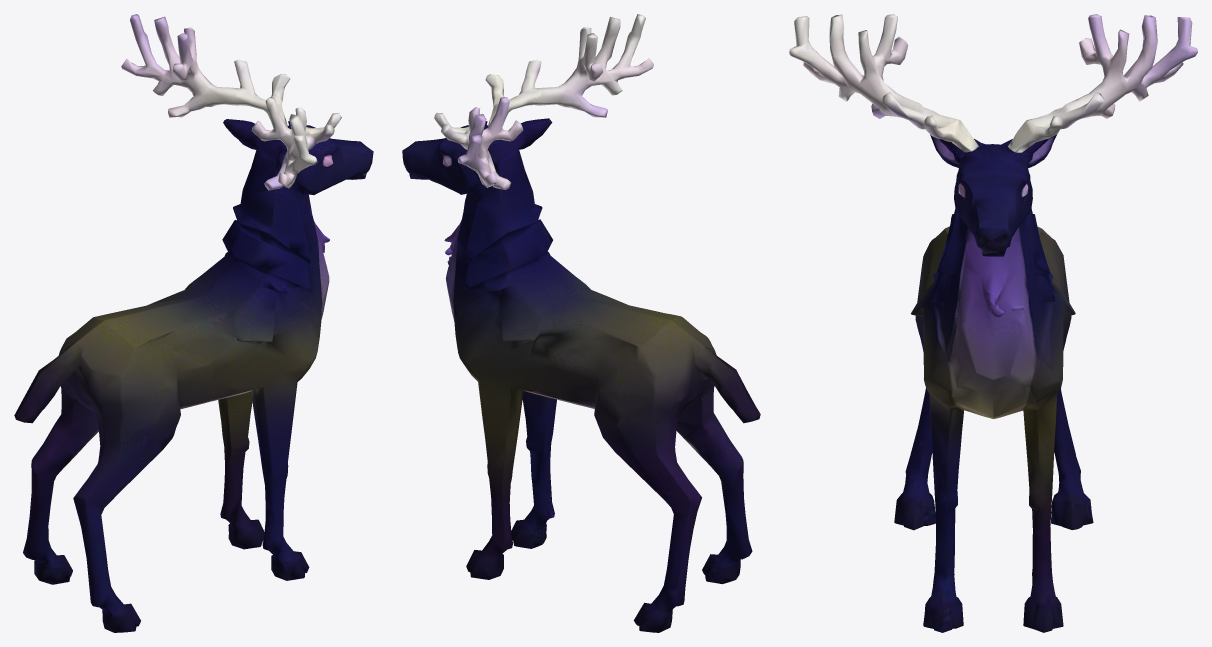
The model's file is gloam_hart.glb.
3 views of the same model, side by side, from view 1: azimuth 30°, elevation 25°; view 2: azimuth 150°, elevation 25°; view 3: azimuth 270°, elevation 25° (orthographic). The views are drawn at different scales.
Visible parts, largest first — view 1: tripo_node_dde08eef-7130-4566-bcc6-766e4d0324c3; view 2: tripo_node_dde08eef-7130-4566-bcc6-766e4d0324c3; view 3: tripo_node_dde08eef-7130-4566-bcc6-766e4d0324c3.
Boxes of the visible parts, x1,y1,x2,y2 form: tripo_node_dde08eef-7130-4566-bcc6-766e4d0324c3: (14, 14, 373, 632); tripo_node_dde08eef-7130-4566-bcc6-766e4d0324c3: (402, 14, 760, 632); tripo_node_dde08eef-7130-4566-bcc6-766e4d0324c3: (789, 14, 1197, 632).
Bounding box in the file's own units: 0.7383 × 1 × 0.6335.
Materials: 1 (1 with a texture image).
